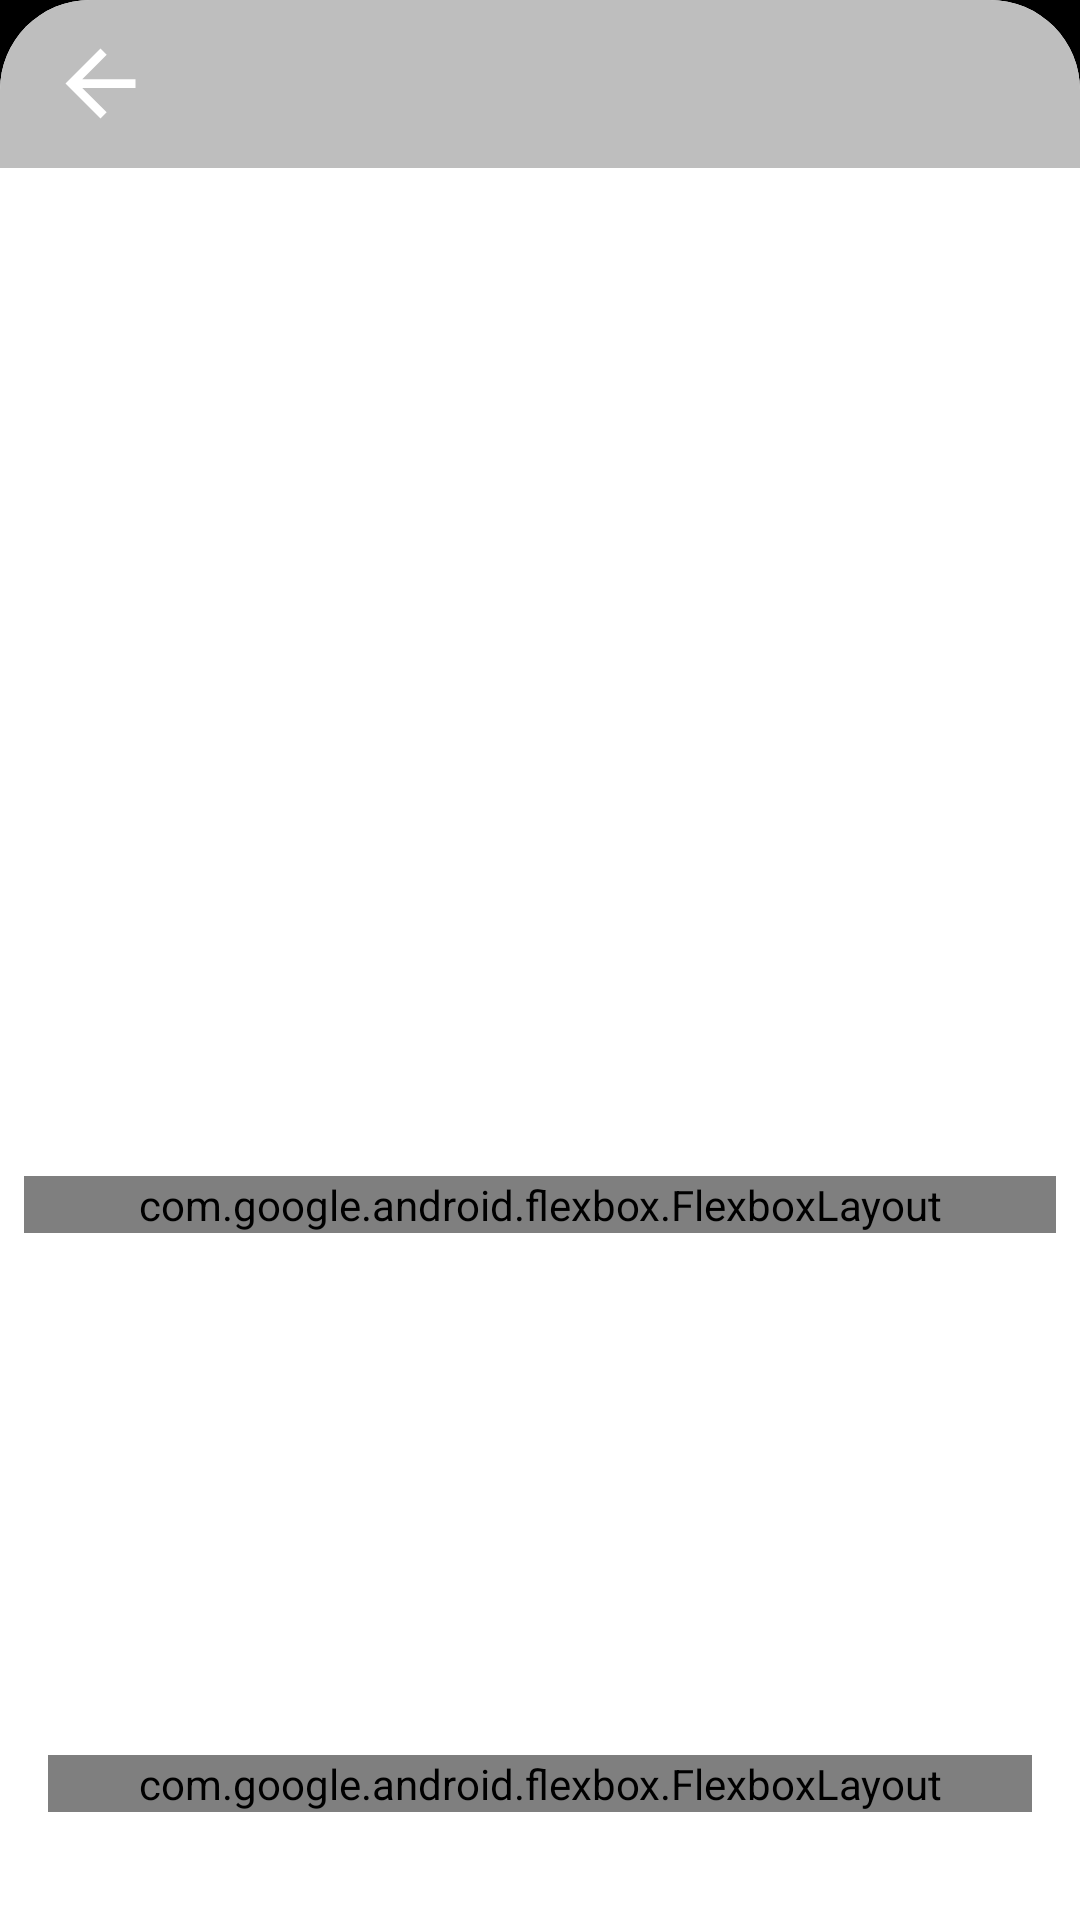

Screen size 1080px x 1920px. Icon name, then its center in pixels as point (x, y):
arrow back: point (101, 83)
